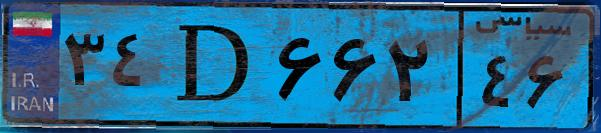2: (385, 28, 445, 110)
3: (57, 26, 110, 100)
4: (475, 38, 525, 113), (110, 28, 158, 98)
6: (270, 28, 330, 110), (330, 28, 385, 110), (525, 38, 570, 115)
D: (158, 12, 270, 120)
